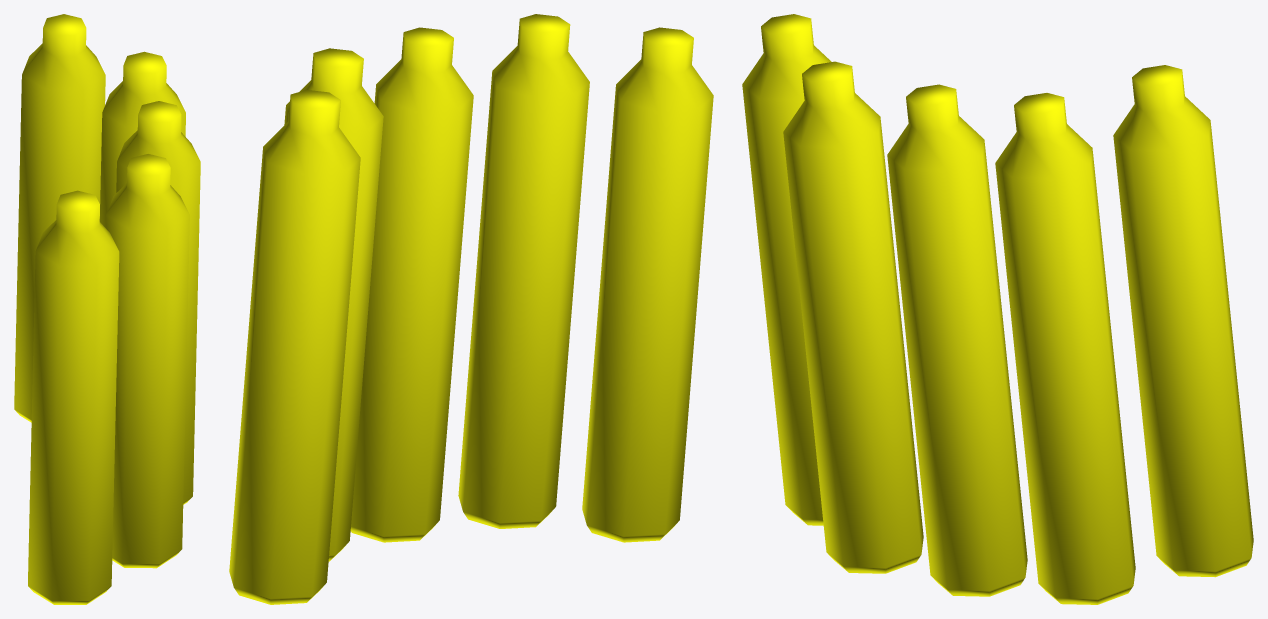
Rendered from char_gun_mag_lModel.glb.
3 renders of one model, left to right at view 1: azimuth 30°, elevation 25°; view 2: azimuth 150°, elevation 25°; view 3: azimuth 270°, elevation 25°, orthographic. The views are drawn at different scales.
Parts seen in each view (by area): view 1: character_gun_mag_l_0; view 2: character_gun_mag_l_0; view 3: character_gun_mag_l_0.
Boxes of the visible parts, x1,y1,x2,y2 form: character_gun_mag_l_0: [14, 14, 200, 604]; character_gun_mag_l_0: [229, 14, 713, 604]; character_gun_mag_l_0: [742, 14, 1253, 604].
Size of the model in its own units: 0.1493 by 0.2425 by 0.2179.
1 material, 1 textured.
